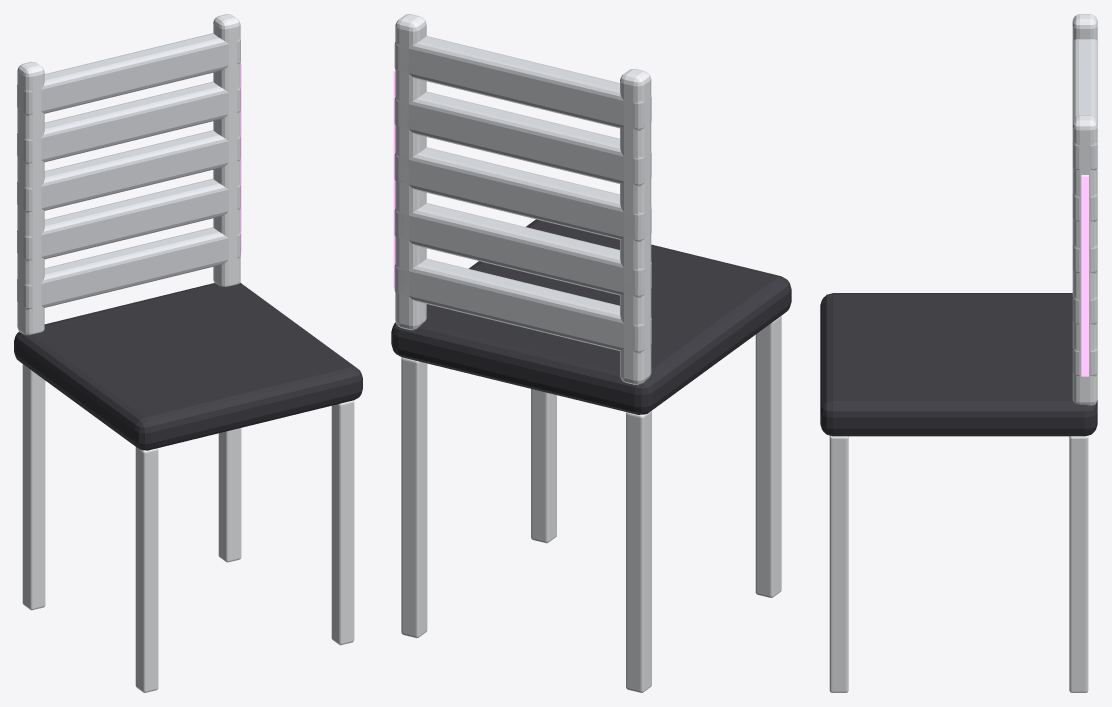
Rendered from dining_chair_ribbed.glb.
3 renders of one model, left to right at view 1: azimuth 30°, elevation 25°; view 2: azimuth 150°, elevation 25°; view 3: azimuth 270°, elevation 25°, orthographic. The views are drawn at different scales.
Parts seen in each view (by area): view 1: GD_dining_chair_ribbed__m3, GD_dining_chair_ribbed__m2, GD_dining_chair_ribbed__m0; view 2: GD_dining_chair_ribbed__m3, GD_dining_chair_ribbed__m0, GD_dining_chair_ribbed__m2; view 3: GD_dining_chair_ribbed__m2, GD_dining_chair_ribbed__m0, GD_dining_chair_ribbed__m3, GD_dining_chair_ribbed__m1.
Boxes of the visible parts, x1,y1,x2,y2 form: GD_dining_chair_ribbed__m3: (17, 33, 240, 309); GD_dining_chair_ribbed__m2: (14, 282, 362, 450); GD_dining_chair_ribbed__m0: (17, 14, 354, 692); GD_dining_chair_ribbed__m3: (394, 36, 651, 353); GD_dining_chair_ribbed__m0: (395, 14, 781, 692); GD_dining_chair_ribbed__m2: (391, 219, 791, 414); GD_dining_chair_ribbed__m2: (820, 293, 1097, 436); GD_dining_chair_ribbed__m0: (829, 14, 1097, 692); GD_dining_chair_ribbed__m3: (1072, 39, 1097, 376); GD_dining_chair_ribbed__m1: (1081, 175, 1088, 376).
Bounding box in the file's own units: 0.44 × 1 × 0.44.
